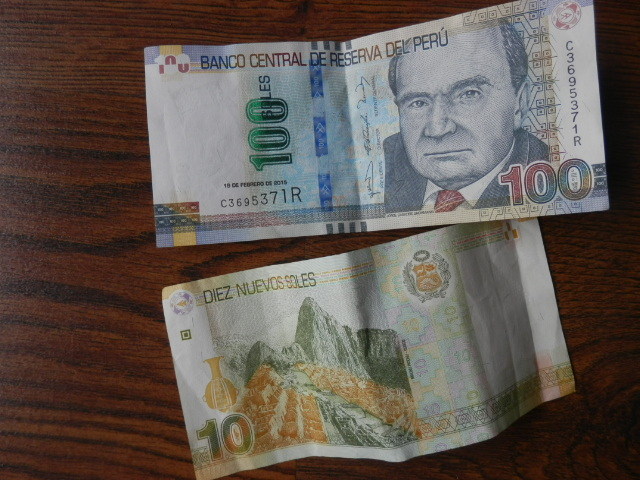B10: (142, 250, 602, 476)
B100: (138, 36, 614, 229)
